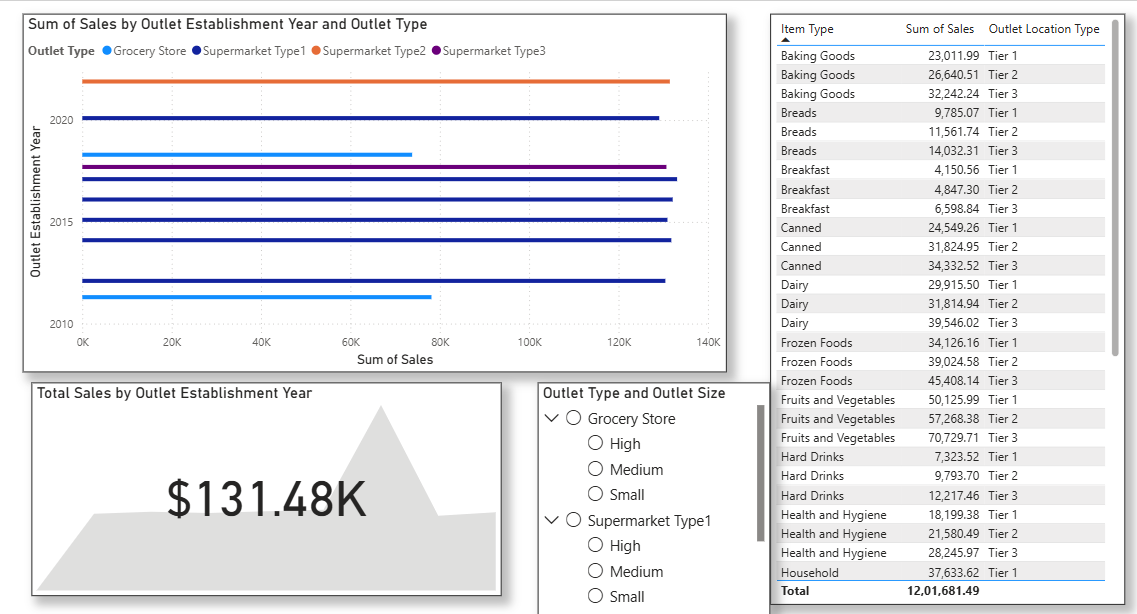

This screenshot's page, from the dashboard's own definition file:
{"tool":"powerbi","page":{"name":"Profitability Dashboard","canvas":[1280,720],"ordinal":5},"visuals":[{"type":"kpi","fields":{"Indicator":["Sum(BlinkIT Grocery Data.Sales)"]},"box":[10,0,280,280],"z":0},{"type":"clusteredBarChart","fields":{"Category":["BlinkIT Grocery Data.Outlet Establishment Year"],"Y":["Sum(BlinkIT Grocery Data.Sales)"],"Series":["BlinkIT Grocery Data.Outlet Type"]},"box":[53.5,59,772.6,393.8],"z":1000},{"type":"tableEx","fields":{"Values":["BlinkIT Grocery Data.Item Type","Sum(BlinkIT Grocery Data.Sales)","BlinkIT Grocery Data.Outlet Location Type"]},"box":[874.1,59,389.7,649.1],"z":2000},{"type":"kpi","fields":{"TrendLine":["BlinkIT Grocery Data.Outlet Establishment Year"],"Indicator":["BlinkIT Grocery Data.Total Sales"]},"box":[63.1,463.8,516,234.6],"z":3000},{"type":"listSlicer","fields":{"Values":["BlinkIT Grocery Data.Outlet Type","BlinkIT Grocery Data.Outlet Size"]},"box":[618.9,463.8,255.2,256.6],"z":4000}]}

Visuals, with their boxes on the page's 1280x720 design canvas (x1, y1, x2, y2). These are canvas units, not pixel positions in the 1137x614 screenshot, which may show the page scaled, cropped or inside an application window:
kpi - Sum(BlinkIT Grocery Data.Sales): 10:0:290:280
clusteredBarChart - BlinkIT Grocery Data.Outlet Establishment Year x Sum(BlinkIT Grocery Data.Sales): 54:59:826:453
tableEx - BlinkIT Grocery Data.Item Type x Sum(BlinkIT Grocery Data.Sales): 874:59:1264:708
kpi - BlinkIT Grocery Data.Outlet Establishment Year x BlinkIT Grocery Data.Total Sales: 63:464:579:698
listSlicer - BlinkIT Grocery Data.Outlet Type x BlinkIT Grocery Data.Outlet Size: 619:464:874:720
